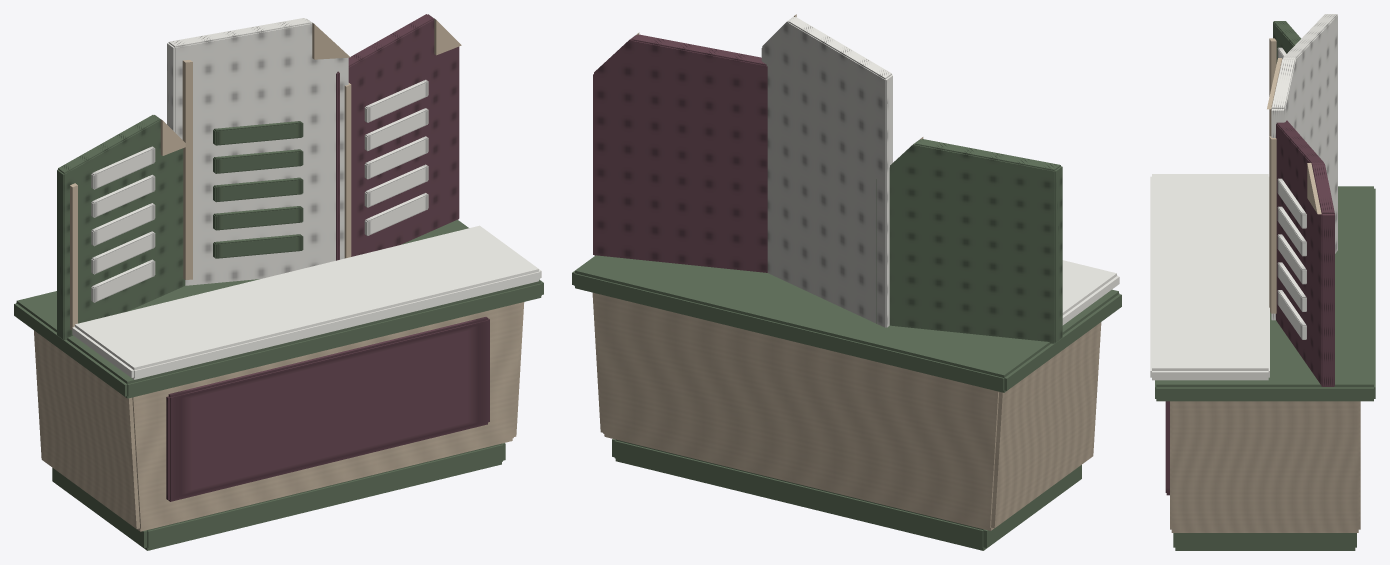
The model's file is s04-patch-folio-detailed.glb.
3 renders of one model, left to right at view 1: azimuth 30°, elevation 25°; view 2: azimuth 150°, elevation 25°; view 3: azimuth 270°, elevation 25°, orthographic. The views are drawn at different scales.
Parts seen in each view (by area): view 1: Ash counter, Porcelain centre leaf, Sample ledge, Plum outer leaf, Sage outer leaf; view 2: Ash counter, Plum outer leaf, Porcelain centre leaf, Sage outer leaf, Sample ledge; view 3: Ash counter, Sample ledge, Plum outer leaf, Porcelain centre leaf, Sage outer leaf.
Boxes of the visible parts, box(x1,y1,x2,y2) form: Ash counter: box(14, 219, 543, 550); Porcelain centre leaf: box(167, 18, 350, 285); Sample ledge: box(72, 225, 541, 379); Plum outer leaf: box(336, 14, 461, 260); Sage outer leaf: box(57, 115, 185, 340); Ash counter: box(572, 255, 1121, 550); Plum outer leaf: box(593, 32, 767, 272); Porcelain centre leaf: box(761, 14, 892, 327); Sage outer leaf: box(876, 137, 1062, 343); Sample ledge: box(1062, 260, 1119, 325); Ash counter: box(1155, 186, 1375, 550); Sample ledge: box(1150, 174, 1269, 380); Plum outer leaf: box(1269, 120, 1334, 386); Porcelain centre leaf: box(1267, 14, 1337, 320); Sage outer leaf: box(1269, 21, 1301, 136).
Size of the model in its own units: 2.38 by 2.35 by 1.12.
1 material, 1 textured.
